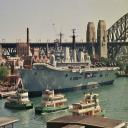Portanaves: (18, 27, 122, 100)
